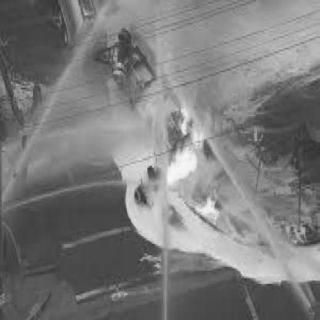Fire: (156, 86, 232, 230)
